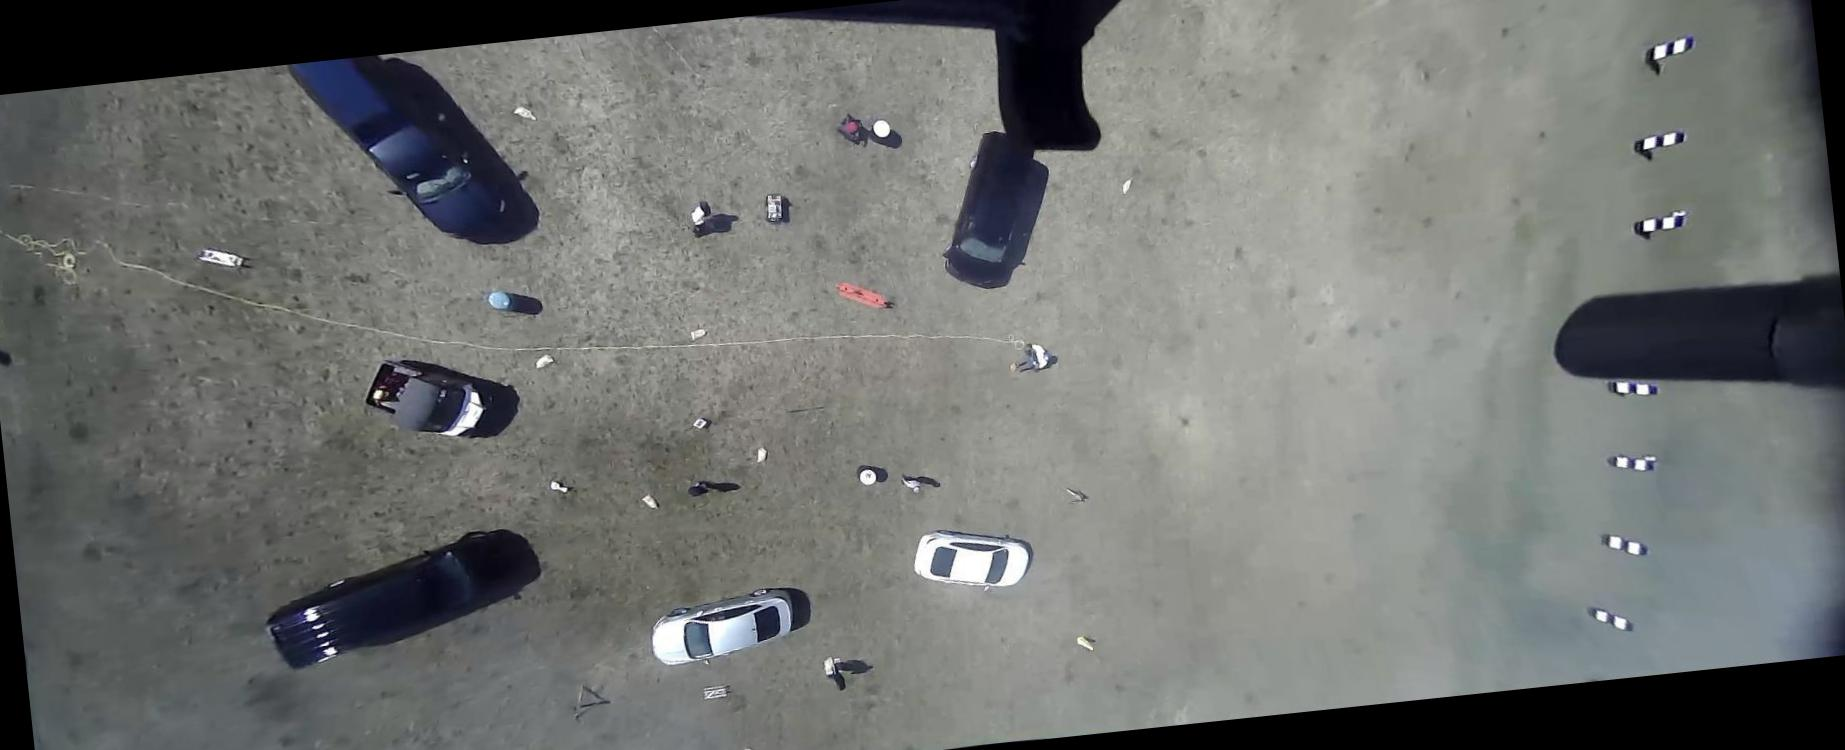vehicle: (285, 44, 507, 255), (255, 527, 534, 673), (930, 127, 1048, 292), (358, 346, 502, 450), (645, 585, 799, 672), (907, 520, 1035, 598)
